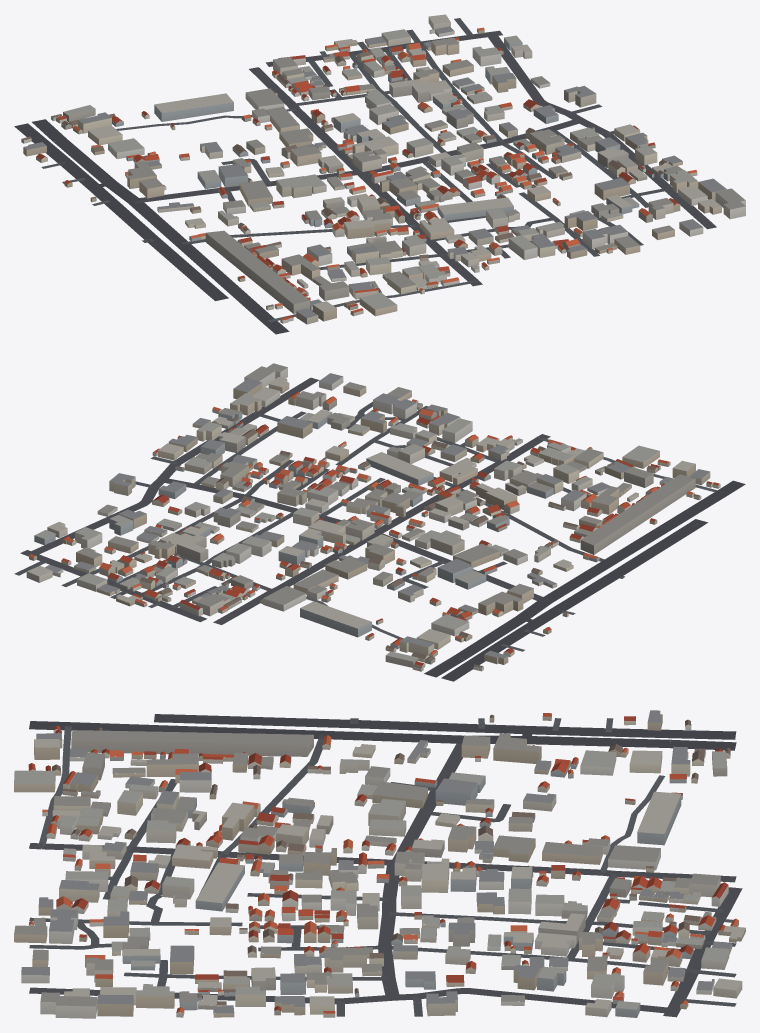
The picture shows the model from 3 angles, top to bottom: view 1: azimuth 30°, elevation 25°; view 2: azimuth 150°, elevation 25°; view 3: azimuth 270°, elevation 25°; orthographic projection. The views are drawn at different scales.
Visible parts, largest first — view 1: buildings_roofs, buildings_walls, roads; view 2: buildings_roofs, buildings_walls, roads; view 3: buildings_roofs, buildings_walls, roads.
Boxes of the visible parts, <box> form: buildings_roofs: <box>22,14,745,320</box>; buildings_walls: <box>21,17,745,324</box>; roads: <box>14,18,716,334</box>; buildings_roofs: <box>27,363,719,668</box>; buildings_walls: <box>26,367,720,671</box>; roads: <box>14,377,745,681</box>; buildings_roofs: <box>14,710,745,1013</box>; buildings_walls: <box>14,711,745,1018</box>; roads: <box>29,714,742,1017</box>.
Bounding box in the file's own units: 510 × 9.62 × 518.
